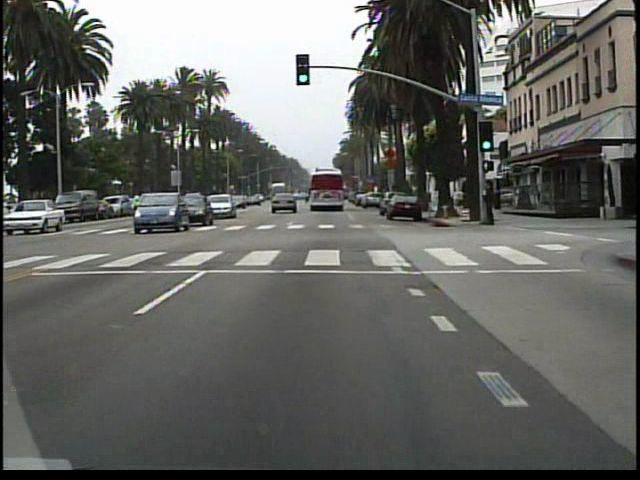person: (481, 177, 498, 230)
